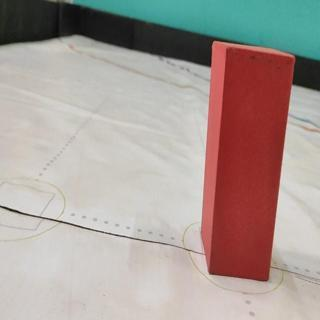redbox: (199, 39, 296, 281)
